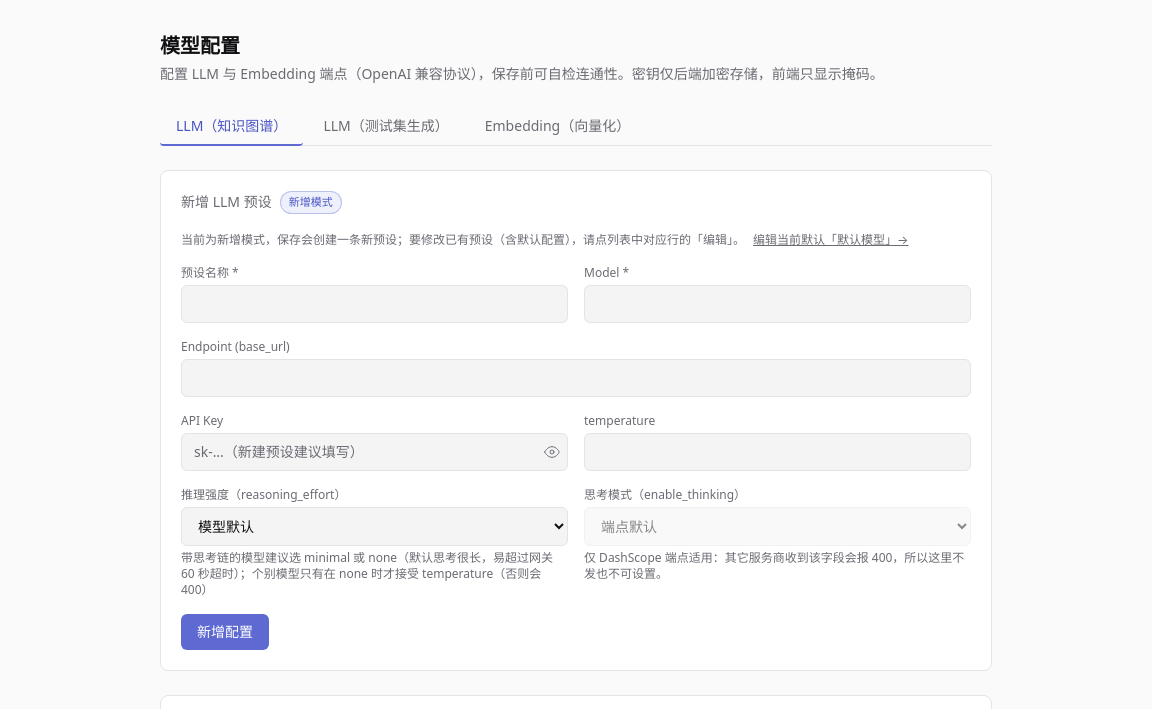
ConfigPage › 同名拦截的文案显示在名称输入框下方
Type "默认模型" into the field named "预设名称" at (374, 304), box x1=181 y1=285 x2=568 y2=323
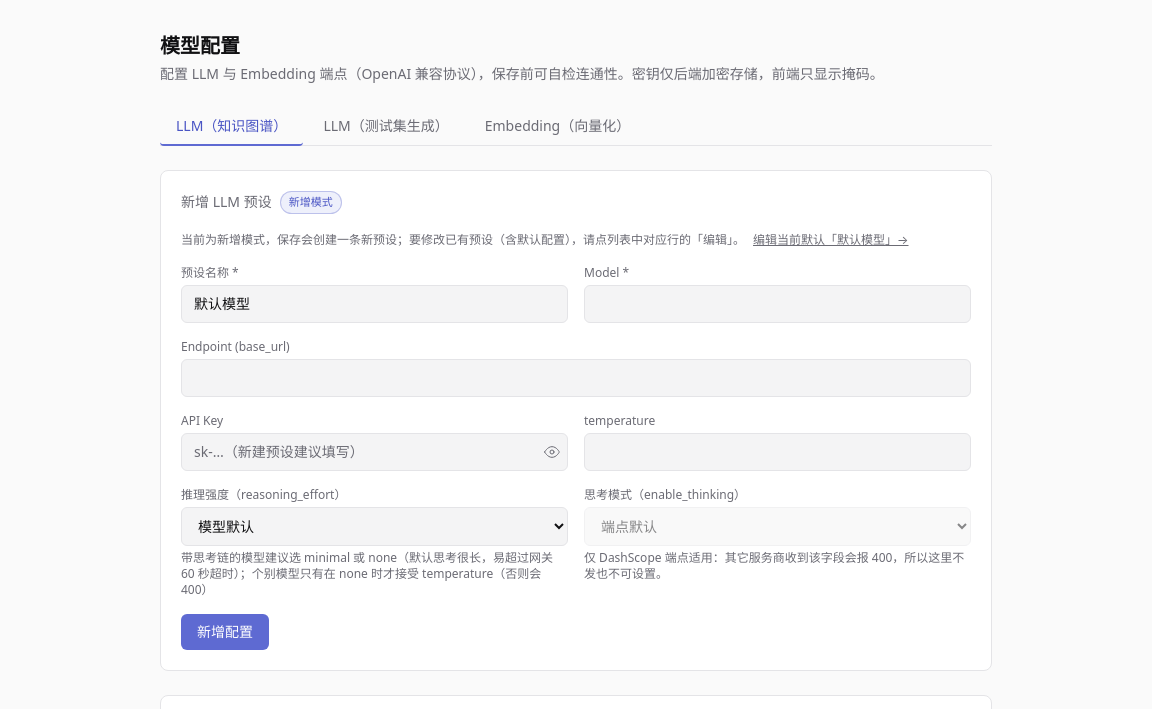
Type "qwen-max" into the field named "Model" at (778, 304), box x1=584 y1=285 x2=971 y2=323
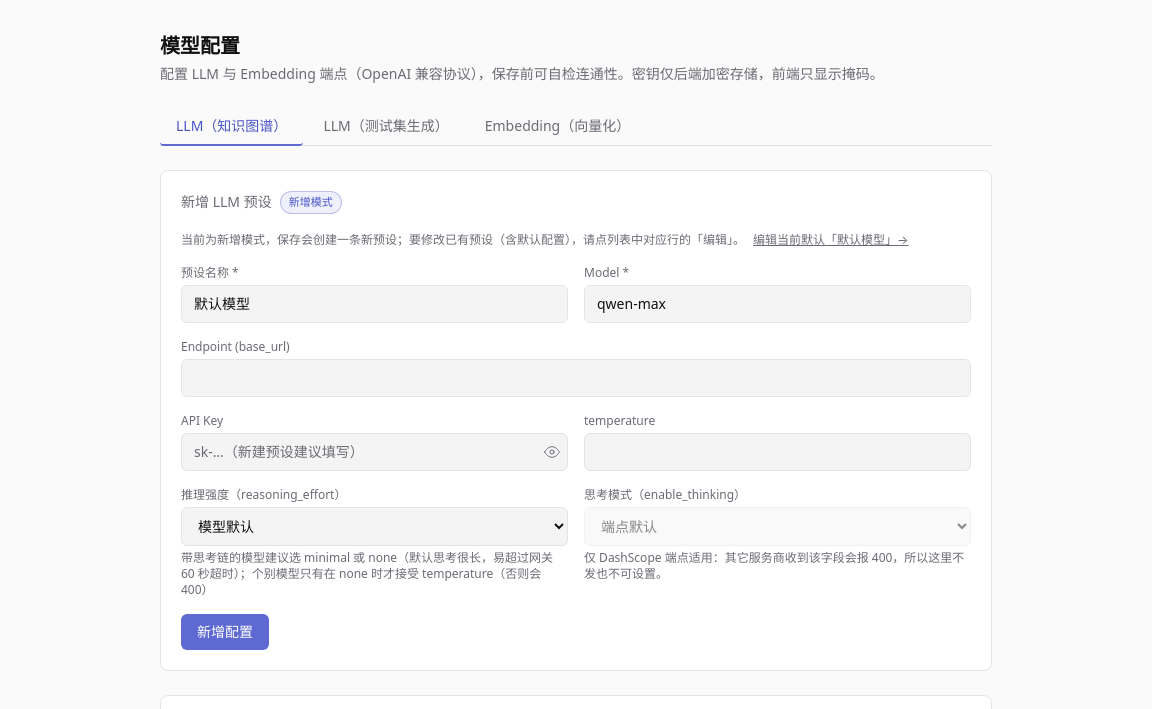
Click the button "新增配置" at (225, 632), box x1=181 y1=614 x2=269 y2=650
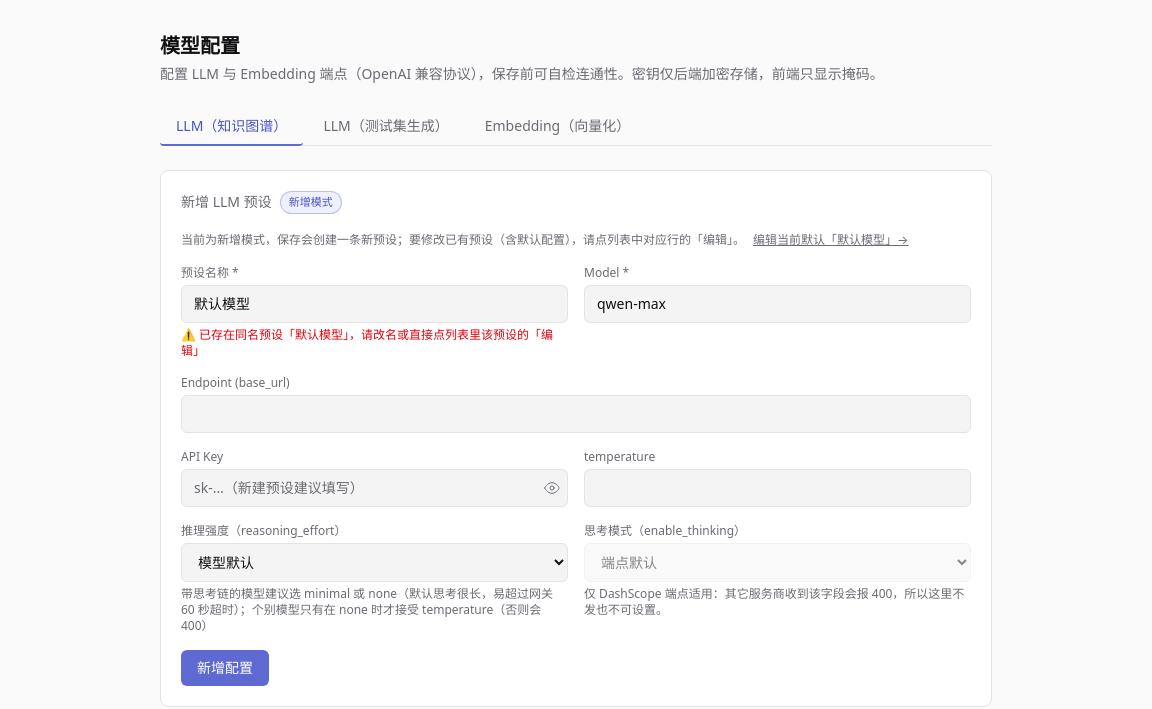
expect the text "⚠️ 已存在同名预设「默认模型」，请改名或直接点列表里该预设的「编辑」" is shown: met, box x1=181 y1=327 x2=568 y2=359
